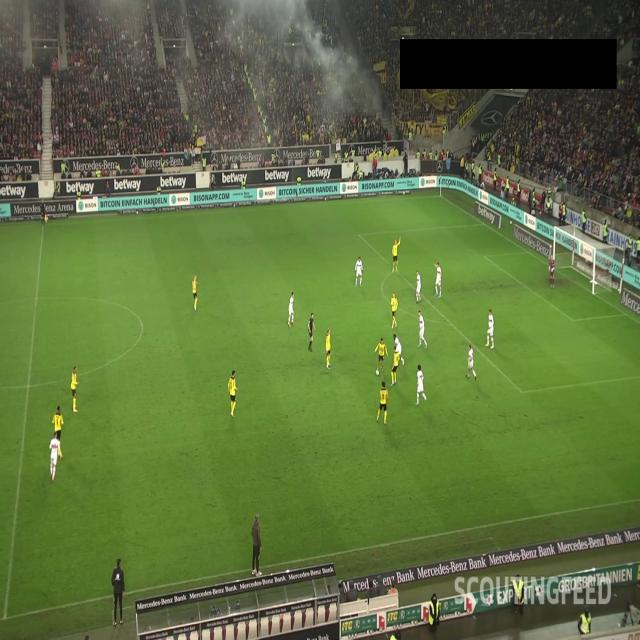ball: (375, 368, 380, 378)
goalkeeper: (547, 255, 556, 291)
player: (49, 431, 63, 482), (52, 405, 64, 460), (376, 380, 389, 425), (374, 337, 389, 375), (415, 364, 428, 406), (228, 370, 238, 417), (70, 366, 80, 412), (390, 346, 401, 386), (417, 309, 428, 349), (466, 343, 477, 381), (391, 236, 401, 272), (392, 334, 403, 365), (486, 308, 494, 349), (434, 261, 442, 298), (325, 329, 332, 368), (355, 255, 363, 288), (391, 292, 398, 328), (288, 292, 295, 327), (192, 275, 198, 312), (416, 270, 421, 302)
referee: (308, 313, 316, 352), (39, 198, 49, 226)
